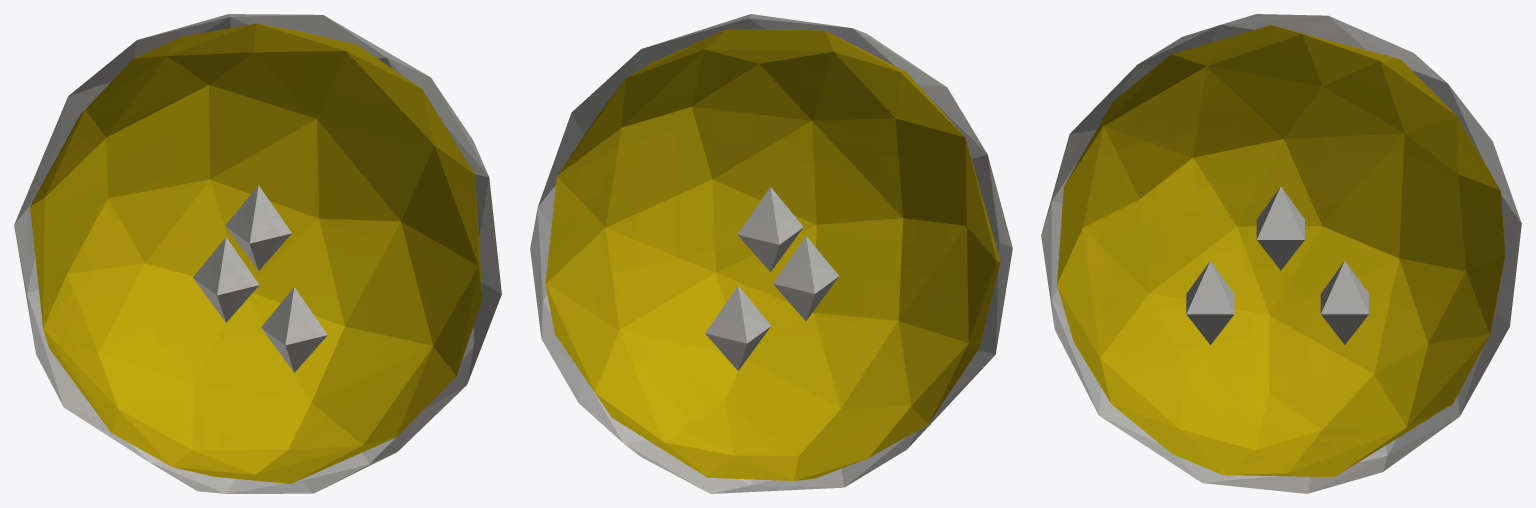
File: item_quest_dball_3.glb
The picture shows the model from 3 angles, left to right: view 1: azimuth 30°, elevation 25°; view 2: azimuth 150°, elevation 25°; view 3: azimuth 270°, elevation 25°; orthographic projection.
Parts seen in each view (by area): view 1: DragonBall, DragonBall.001, Diamond, Diamond.001, Diamond.002; view 2: DragonBall, DragonBall.001, Diamond.002, Diamond.001, Diamond; view 3: DragonBall, DragonBall.001, Diamond.001, Diamond, Diamond.002.
Boxes of the visible parts, left/top/right/bottom form: DragonBall: left=30, top=23, right=482, bottom=483; DragonBall.001: left=14, top=14, right=501, bottom=493; Diamond: left=225, top=185, right=291, bottom=270; Diamond.001: left=261, top=287, right=327, bottom=372; Diamond.002: left=193, top=237, right=259, bottom=322; DragonBall: left=545, top=29, right=1000, bottom=480; DragonBall.001: left=530, top=14, right=1012, bottom=493; Diamond.002: left=705, top=285, right=771, bottom=370; Diamond.001: left=773, top=236, right=838, bottom=320; Diamond: left=737, top=187, right=803, bottom=271; DragonBall: left=1057, top=25, right=1505, bottom=477; DragonBall.001: left=1041, top=14, right=1521, bottom=493; Diamond.001: left=1186, top=260, right=1234, bottom=344; Diamond: left=1256, top=186, right=1304, bottom=270; Diamond.002: left=1320, top=261, right=1368, bottom=344.
Bounding box in the file's own units: 0.3543 × 0.3537 × 0.3537.
2 materials, 2 textured.
